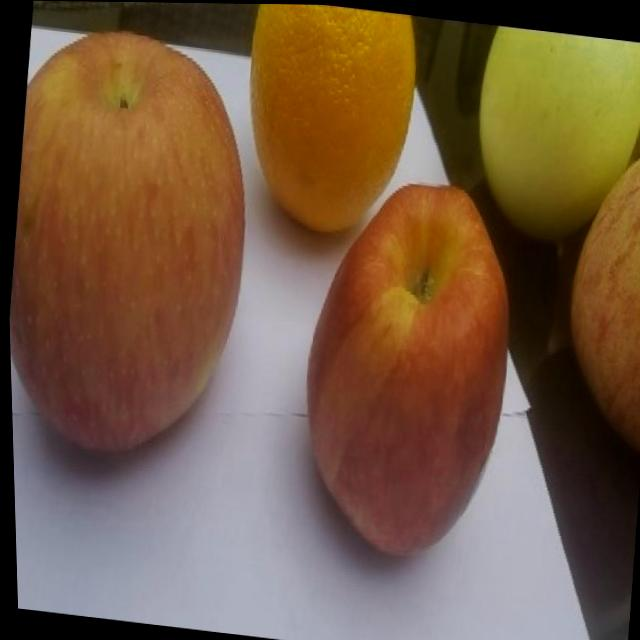Apple: (0, 18, 268, 468), (281, 167, 527, 565), (548, 127, 640, 452)
Orange: (230, 3, 425, 241)
